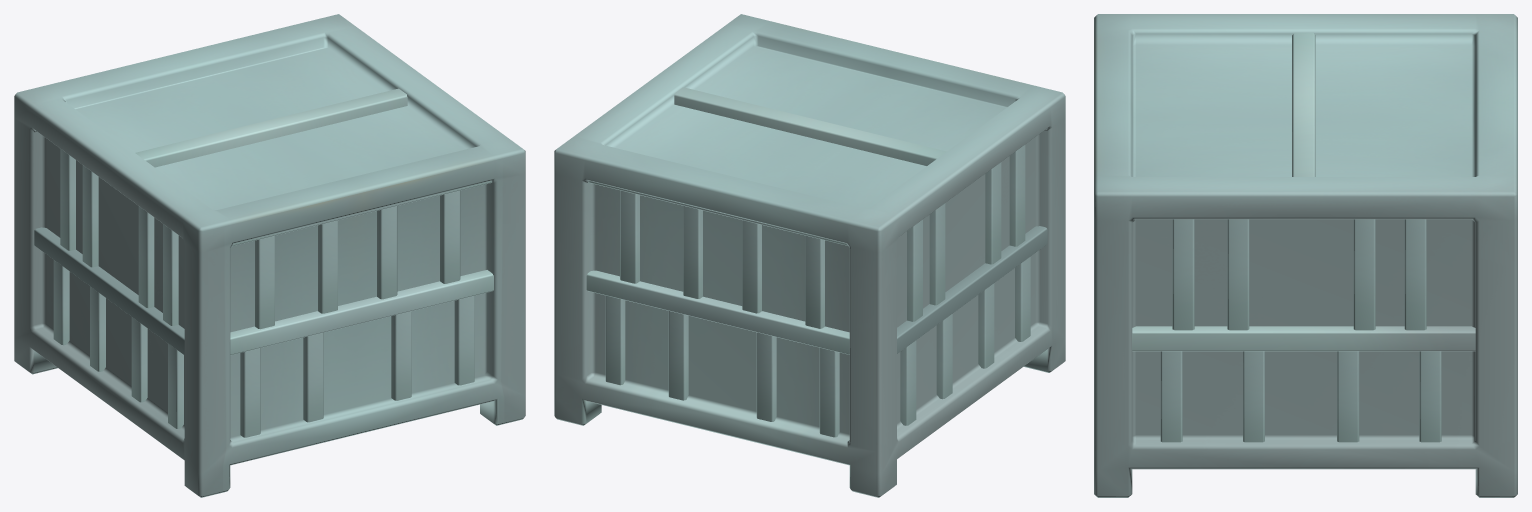
File: SM_Metal_Box.fbx
3 views of the same model, side by side, from view 1: azimuth 30°, elevation 25°; view 2: azimuth 150°, elevation 25°; view 3: azimuth 270°, elevation 25° (orthographic). The views are drawn at different scales.
Visible parts, largest first — view 1: polySurface35; view 2: polySurface35; view 3: polySurface35.
Part boxes in pixels (x1=…): polySurface35: x1=14, y1=14, x2=525, y2=497; polySurface35: x1=554, y1=14, x2=1065, y2=497; polySurface35: x1=1094, y1=14, x2=1517, y2=497.
Bounding box in the file's own units: 4.58 × 3.62 × 4.53.
Materials: 1 (1 with a texture image).
